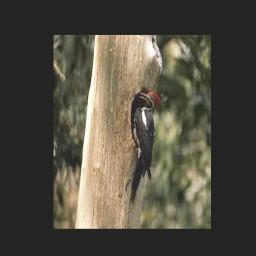Woodpecker: (130, 91, 160, 203)
